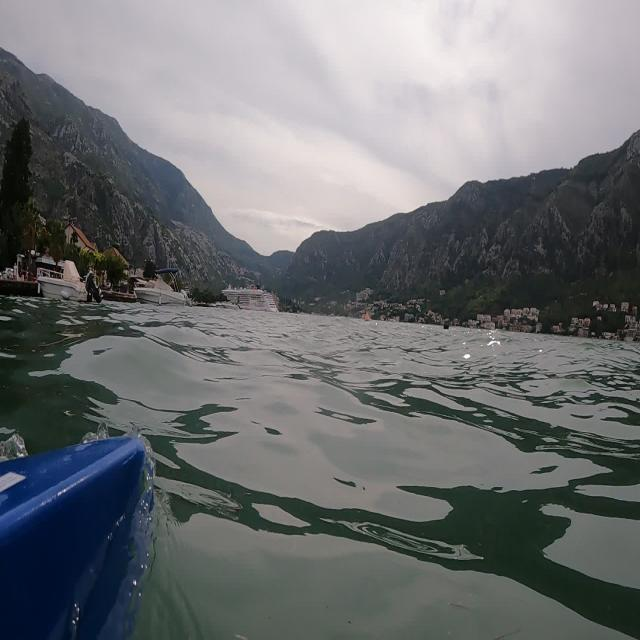boat: (29, 250, 104, 311), (125, 260, 196, 321), (217, 274, 286, 323)
